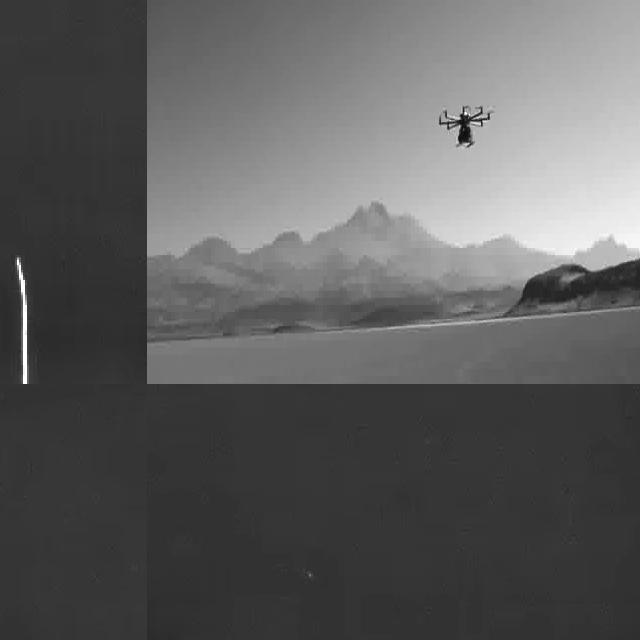0: (301, 565, 325, 593)
drone: (438, 97, 495, 152)
